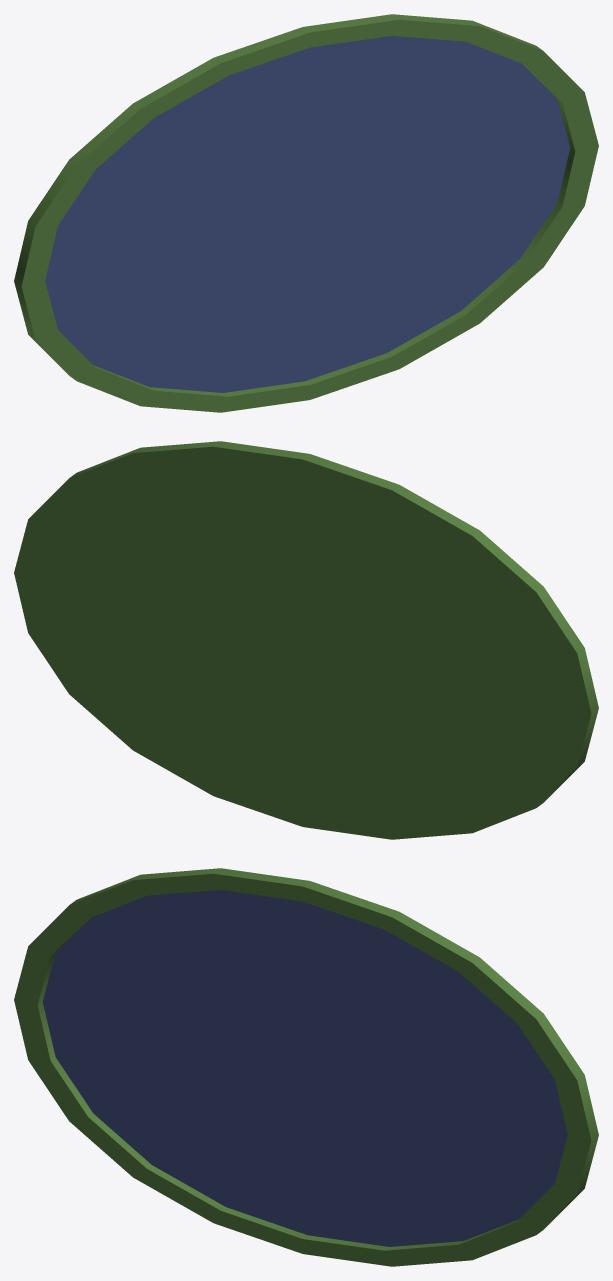
File: PaintingCylinder.fbx
The picture shows the model from 3 angles, top to bottom: view 1: azimuth 30°, elevation 25°; view 2: azimuth 150°, elevation 25°; view 3: azimuth 330°, elevation 25°; orthographic projection.
Parts seen in each view (by area): view 1: paintingcylinder; view 2: paintingcylinder; view 3: paintingcylinder.
Boxes of the visible parts, x1=… form: paintingcylinder: x1=14, y1=14, x2=598, y2=412; paintingcylinder: x1=14, y1=441, x2=598, y2=839; paintingcylinder: x1=14, y1=868, x2=598, y2=1266.
Size of the model in its own units: 1.92 by 1.17 by 0.0434.
